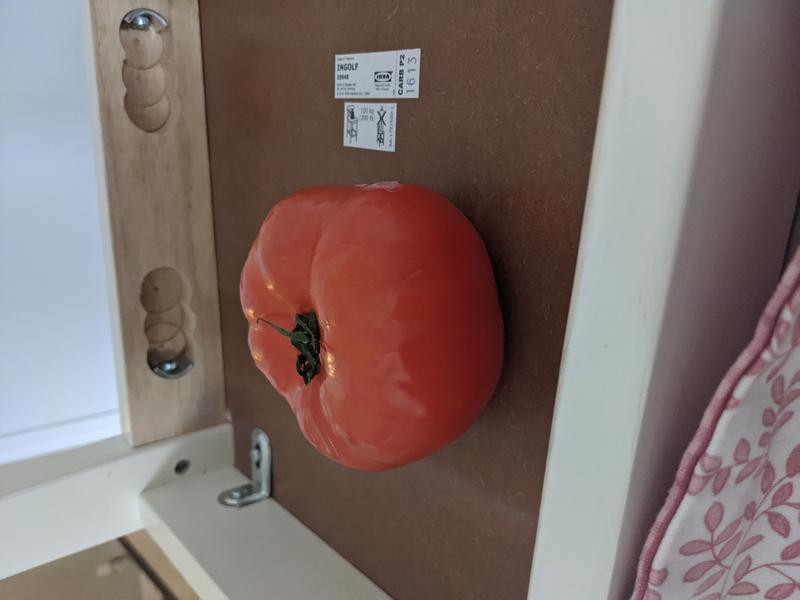tomato: (239, 184, 508, 468)
